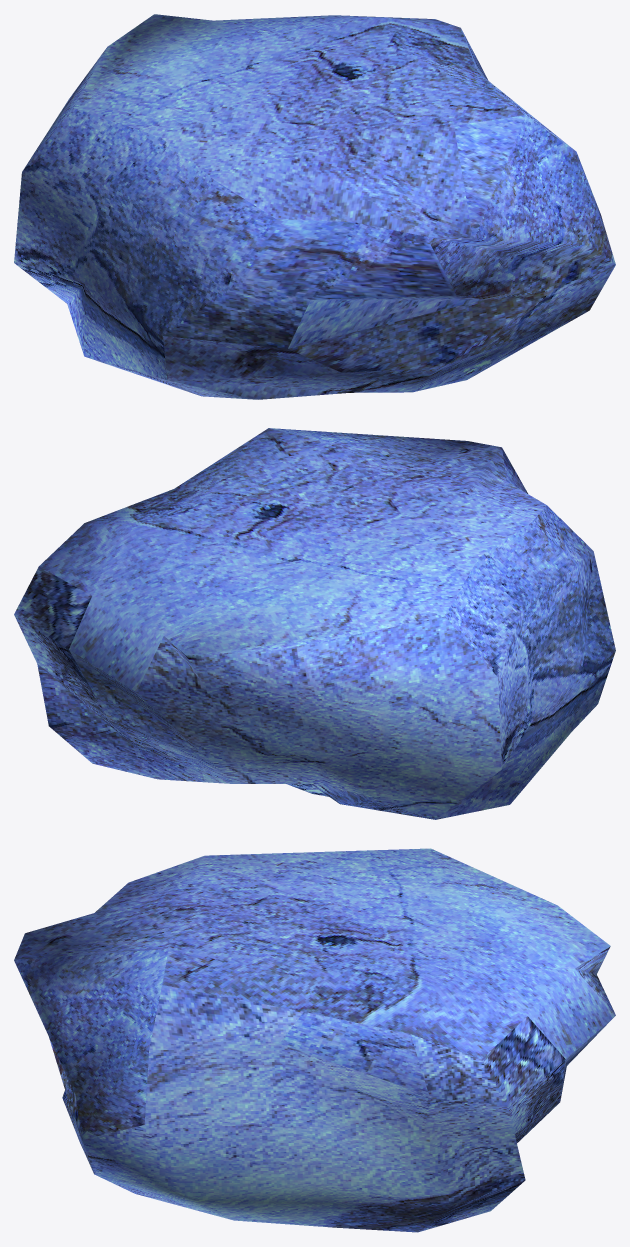
Rendered from Ice.obj.
3 views of the same model, one above another, from view 1: azimuth 30°, elevation 25°; view 2: azimuth 150°, elevation 25°; view 3: azimuth 270°, elevation 25° (orthographic).
Visible parts, largest first — view 1: IceMesh; view 2: IceMesh; view 3: IceMesh.
Part boxes in pixels (x1,y1,x2,y2): IceMesh: [14, 14, 615, 399]; IceMesh: [14, 428, 615, 819]; IceMesh: [14, 848, 615, 1232].
Bounding box in the file's own units: 3.18 × 1.68 × 3.63.
